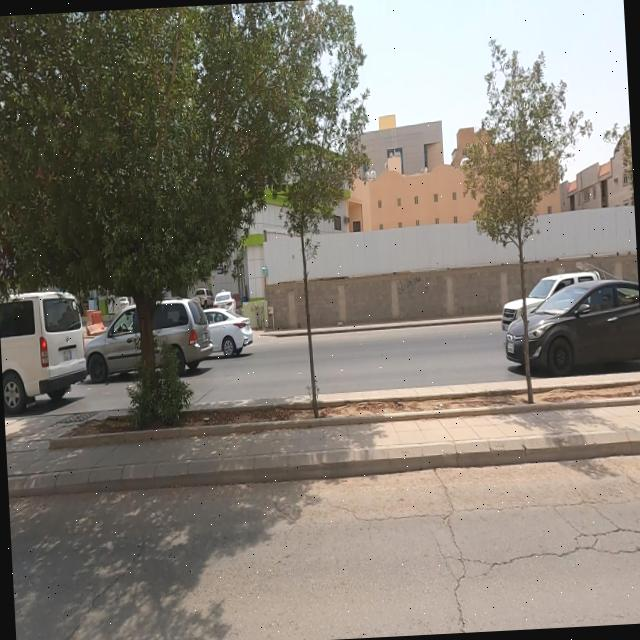Graffiti: (398, 275, 431, 300)
